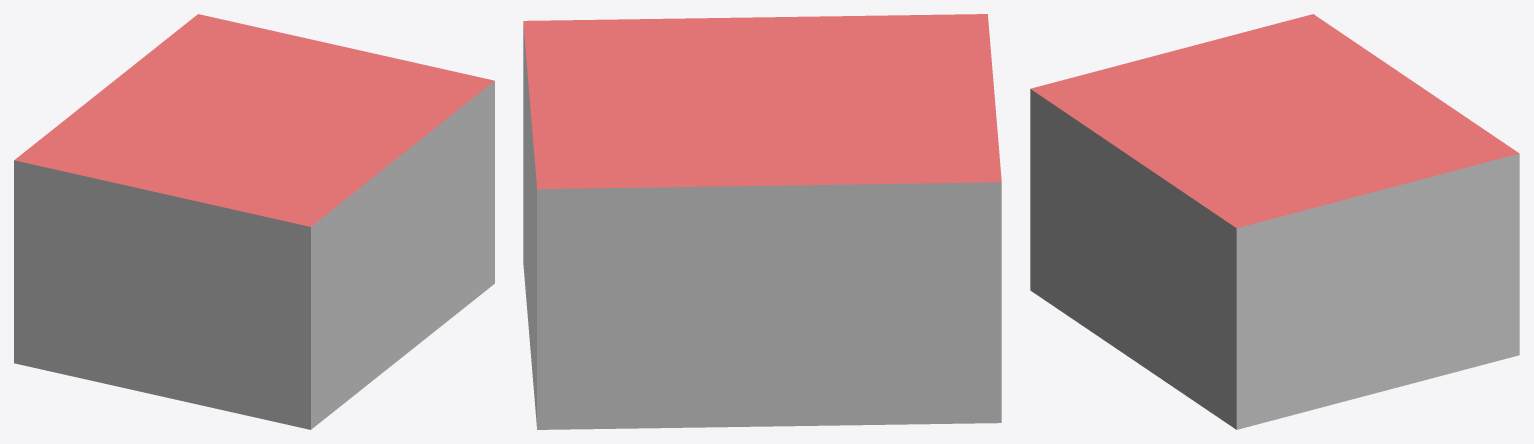
3 views of the same model, side by side, from view 1: azimuth 30°, elevation 25°; view 2: azimuth 150°, elevation 25°; view 3: azimuth 270°, elevation 25° (orthographic). The views are drawn at different scales.
Visible parts, largest first — view 1: Z_UP; view 2: Z_UP; view 3: Z_UP.
Part boxes in pixels (box(x1,y1,x2,y2)): Z_UP: box(14, 14, 494, 429); Z_UP: box(523, 14, 1001, 429); Z_UP: box(1030, 14, 1519, 429).
Size of the model in its own units: 9.12 by 4 by 8.8.
